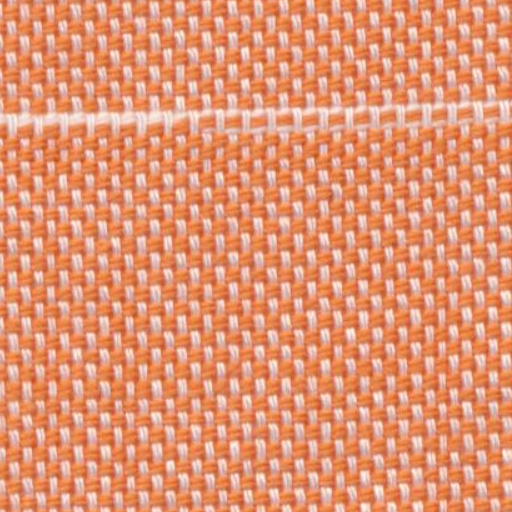TuoSha: (12, 64, 490, 164)
